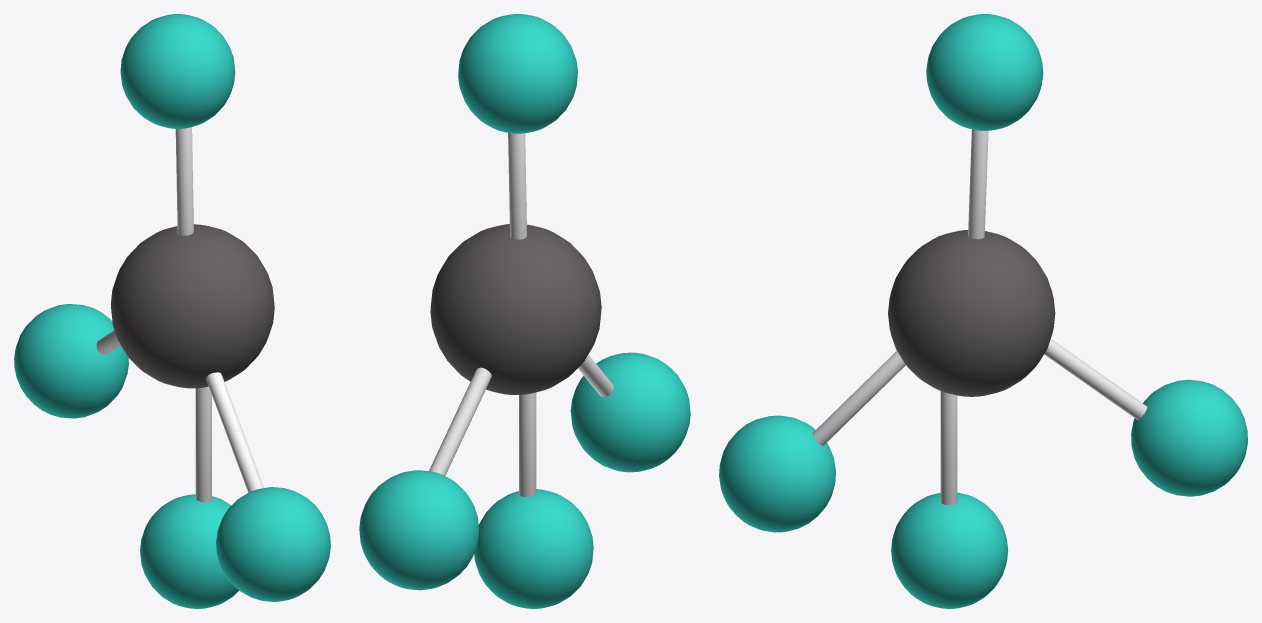
Rendered from CH4_Molecules.fbx.
The picture shows the model from 3 angles, left to right: view 1: azimuth 30°, elevation 25°; view 2: azimuth 150°, elevation 25°; view 3: azimuth 270°, elevation 25°; orthographic projection. The views are drawn at different scales.
Parts seen in each view (by area): view 1: Sphere, Sphere.002, Sphere.001, Sphere.004, Sphere.003, Cylinder.001, Cylinder, Cylinder.003; view 2: Sphere, Sphere.004, Sphere.001, Sphere.003, Sphere.002, Cylinder.002, Cylinder.003, Cylinder, Cylinder.001; view 3: Sphere, Sphere.001, Sphere.002, Sphere.004, Sphere.003, Cylinder.001, Cylinder.002, Cylinder, Cylinder.003.
Part boxes in pixels (left/top/right/bottom): Sphere: left=110, top=224, right=274, bottom=388; Sphere.002: left=216, top=487, right=330, bottom=601; Sphere.001: left=120, top=14, right=235, bottom=128; Sphere.004: left=14, top=304, right=128, bottom=418; Sphere.003: left=140, top=494, right=238, bottom=608; Cylinder.001: left=206, top=372, right=263, bottom=492; Cylinder: left=195, top=386, right=211, bottom=502; Cylinder.003: left=175, top=127, right=193, bottom=235; Sphere: left=430, top=224, right=601, bottom=394; Sphere.004: left=359, top=470, right=479, bottom=590; Sphere.001: left=458, top=14, right=577, bottom=133; Sphere.003: left=474, top=489, right=593, bottom=608; Sphere.002: left=570, top=352, right=690, bottom=472; Cylinder.002: left=429, top=367, right=491, bottom=475; Cylinder.003: left=508, top=133, right=526, bottom=239; Cylinder: left=519, top=392, right=536, bottom=496; Cylinder.001: left=578, top=354, right=613, bottom=396; Sphere: left=888, top=230, right=1055, bottom=396; Sphere.001: left=926, top=14, right=1043, bottom=130; Sphere.002: left=719, top=415, right=835, bottom=532; Sphere.004: left=1131, top=379, right=1247, bottom=496; Sphere.003: left=891, top=492, right=1008, bottom=608; Cylinder.001: left=812, top=351, right=905, bottom=445; Cylinder.002: left=1044, top=339, right=1147, bottom=419; Cylinder: left=940, top=391, right=957, bottom=505; Cylinder.003: left=968, top=129, right=988, bottom=239.
Bounding box in the file's own units: 200 × 769 × 632.
